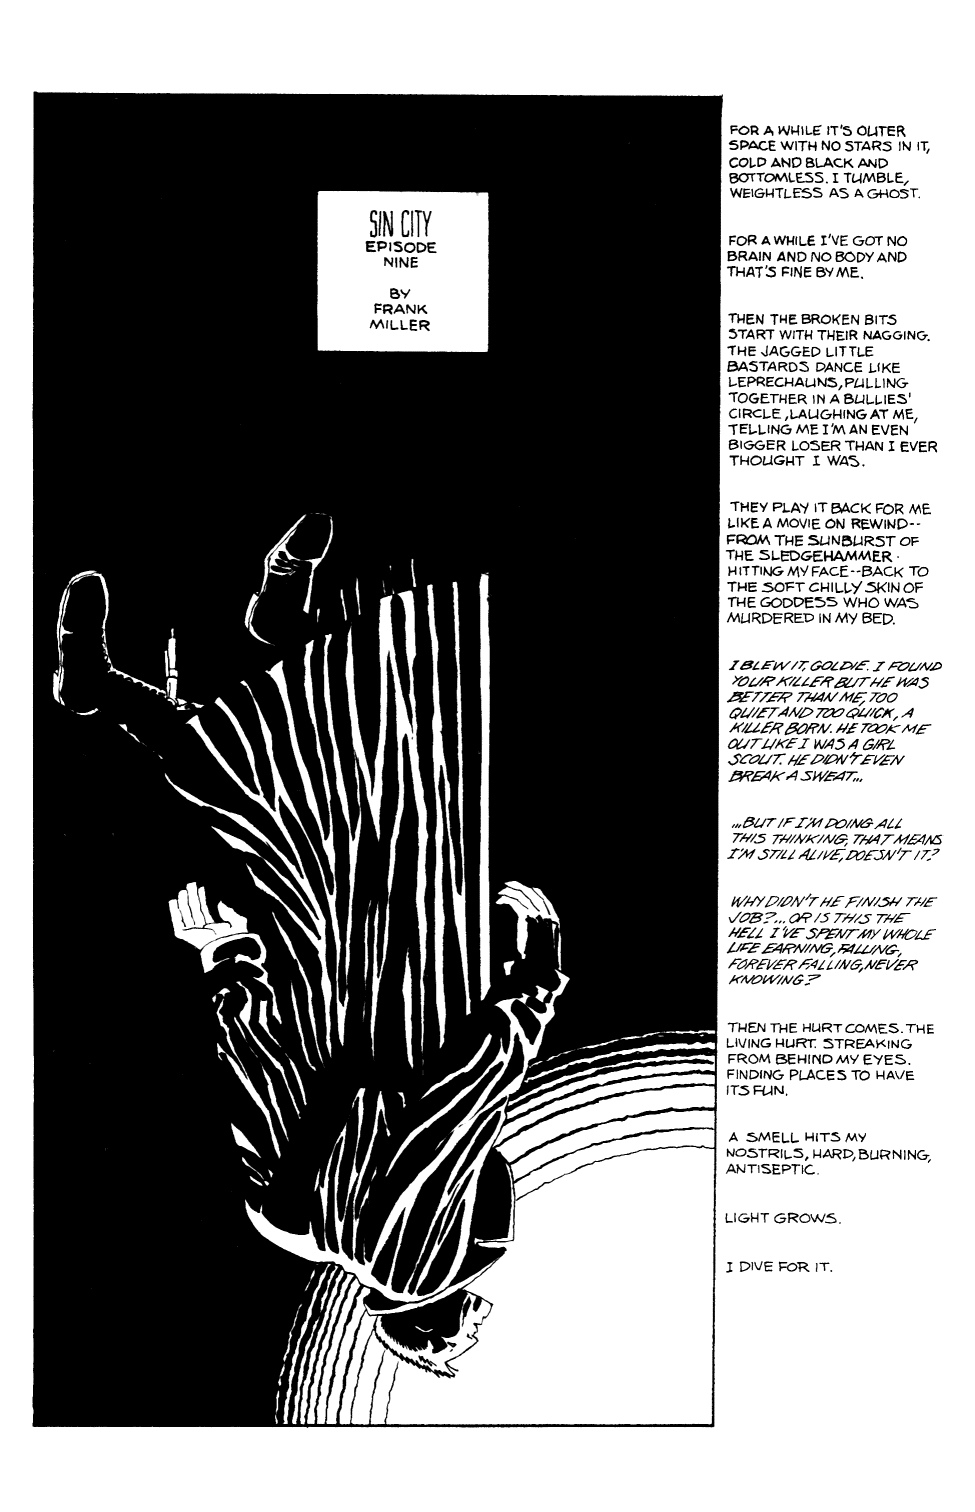Baloon: (725, 305, 956, 474), (723, 492, 942, 642), (716, 656, 946, 793), (316, 188, 492, 350), (723, 881, 942, 993), (721, 1012, 942, 1116), (725, 1114, 942, 1200), (728, 112, 935, 202), (730, 812, 956, 872), (725, 223, 911, 284), (716, 1207, 858, 1246), (723, 1256, 844, 1290)
Vignetta: (32, 91, 714, 1428)
